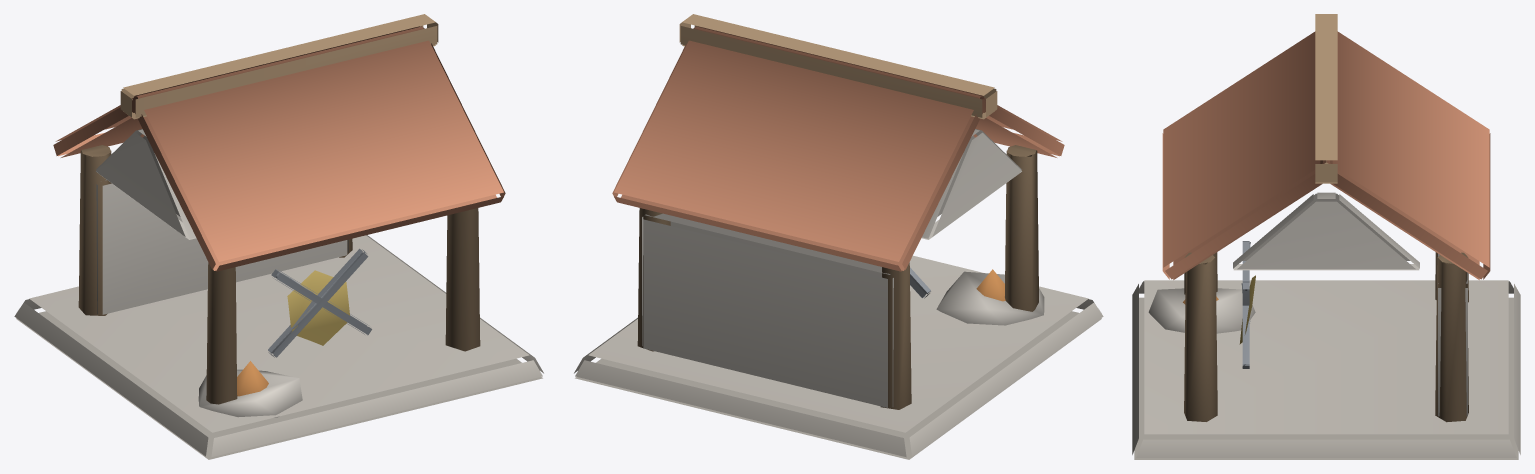
The model's file is study_barracks_camp_lod2.glb.
The picture shows the model from 3 angles, left to right: view 1: azimuth 30°, elevation 25°; view 2: azimuth 150°, elevation 25°; view 3: azimuth 270°, elevation 25°; orthographic projection.
Parts seen in each view (by area): view 1: study_barracks_camp.001; view 2: study_barracks_camp.001; view 3: study_barracks_camp.001.
Part boxes in pixels (bbox=[...]): study_barracks_camp.001: bbox=[14, 14, 543, 459]; study_barracks_camp.001: bbox=[574, 14, 1103, 459]; study_barracks_camp.001: bbox=[1132, 14, 1520, 459].
Size of the model in its own units: 3.62 by 3 by 3.62.
